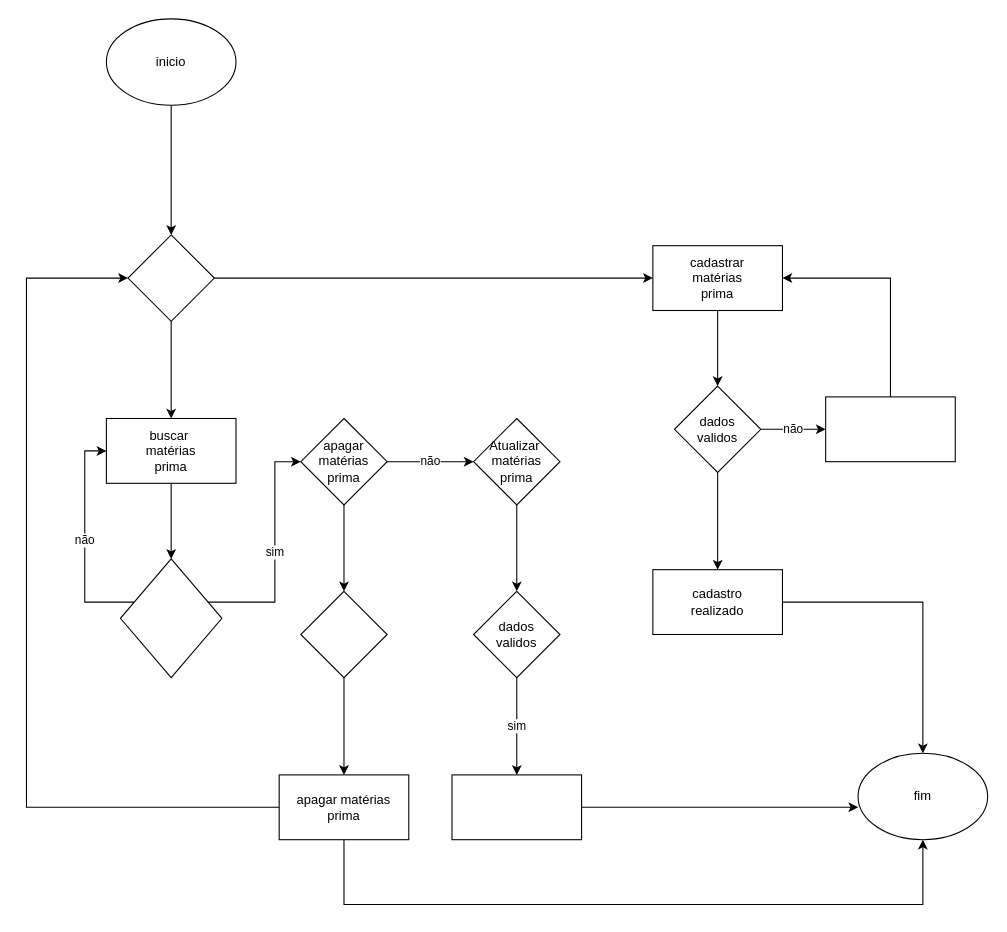
Image size: 1007x932. Some labels were removed from this diagram. Here are the shapes that lost their labels. From the top down, the centre of each, then its label:
pixel 170 277: cadastro matérias prima
pixel 890 429: mostrar erro
pixel 170 618: matérias prima encontrado
pixel 343 634: confirmação
pixel 516 807: cadastro atualizado
